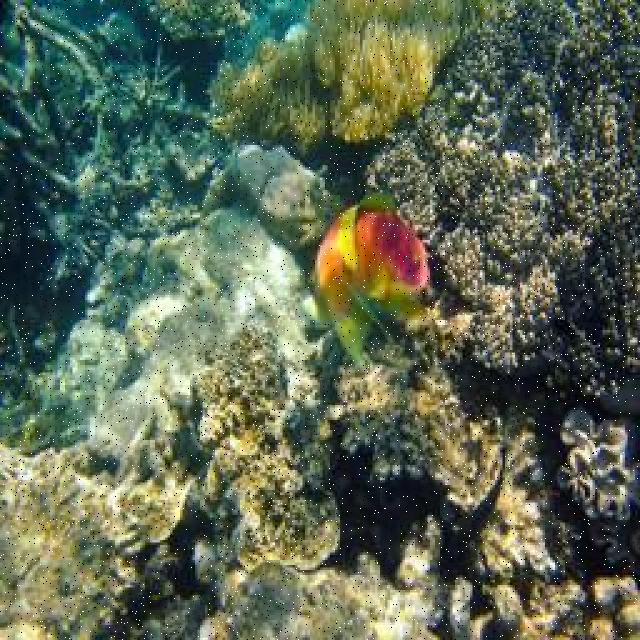aquatic plants: (204, 1, 506, 154)
fish: (301, 193, 431, 370)
reefs: (364, 0, 638, 402), (191, 323, 341, 573), (557, 407, 638, 530)
